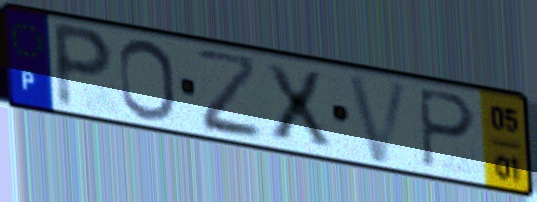O: (116, 37, 180, 125)
P: (50, 17, 118, 113), (415, 84, 479, 171)
V: (343, 71, 414, 167)
X: (260, 60, 335, 150)
Z: (192, 46, 266, 144)
